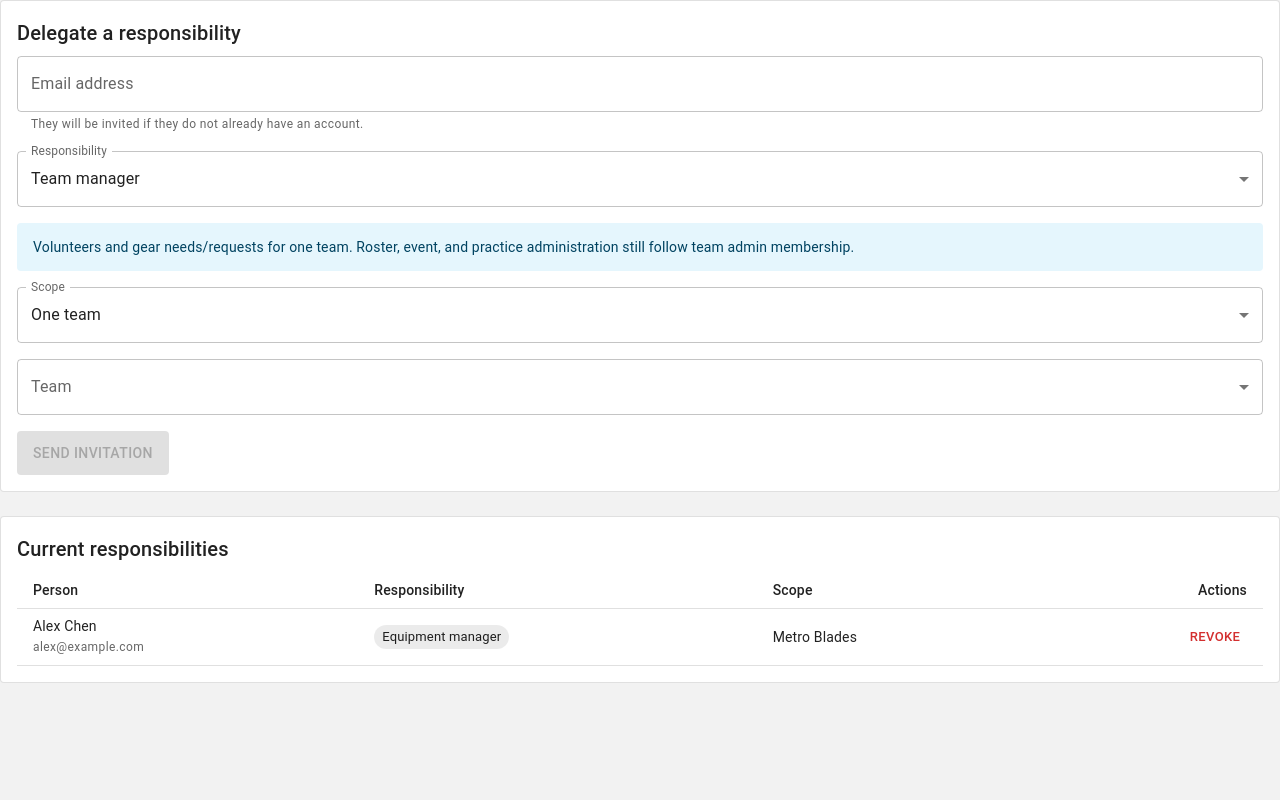
Test: RoleGrantManager › warns that equipment managers get gear only
Click the dropdown named "Responsibility".
click(85, 179)  # box left=31, top=169, right=140, bottom=188
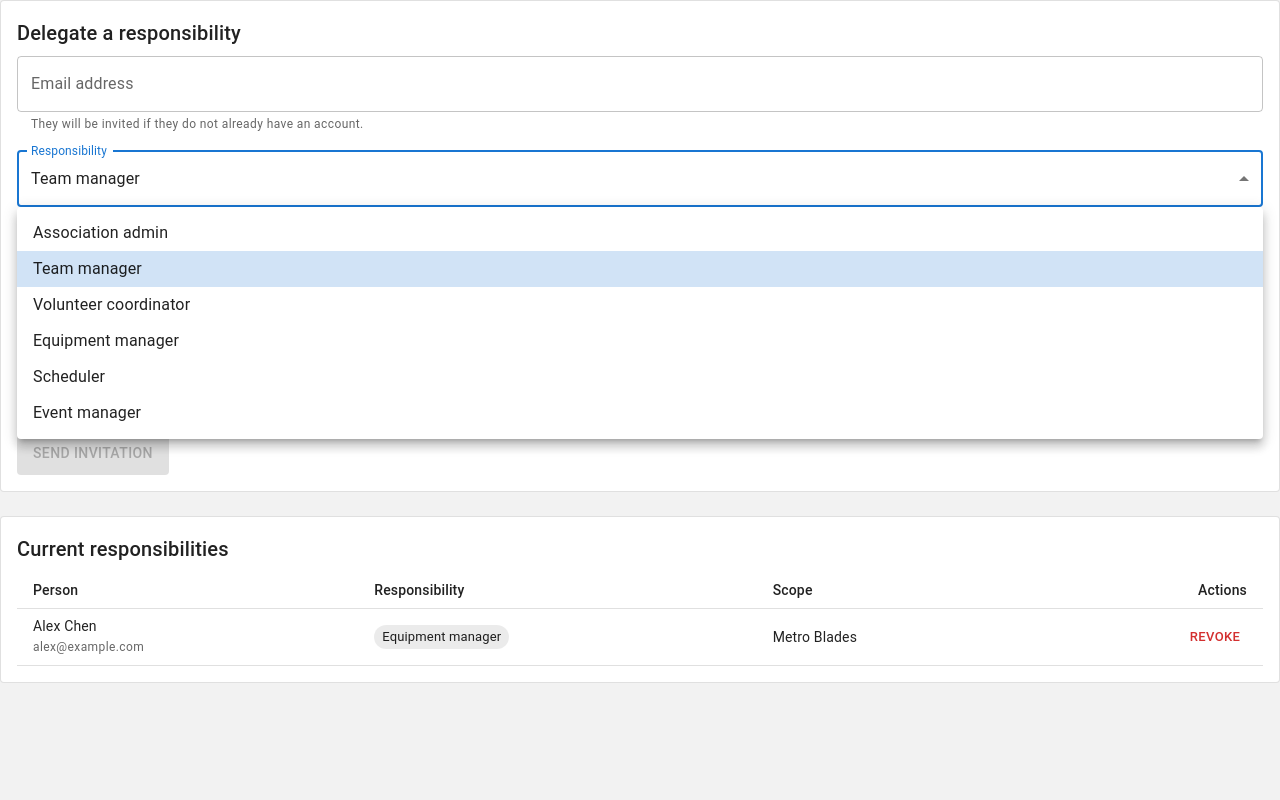
Click the option "Equipment manager".
click(106, 340)  # box left=33, top=331, right=179, bottom=350
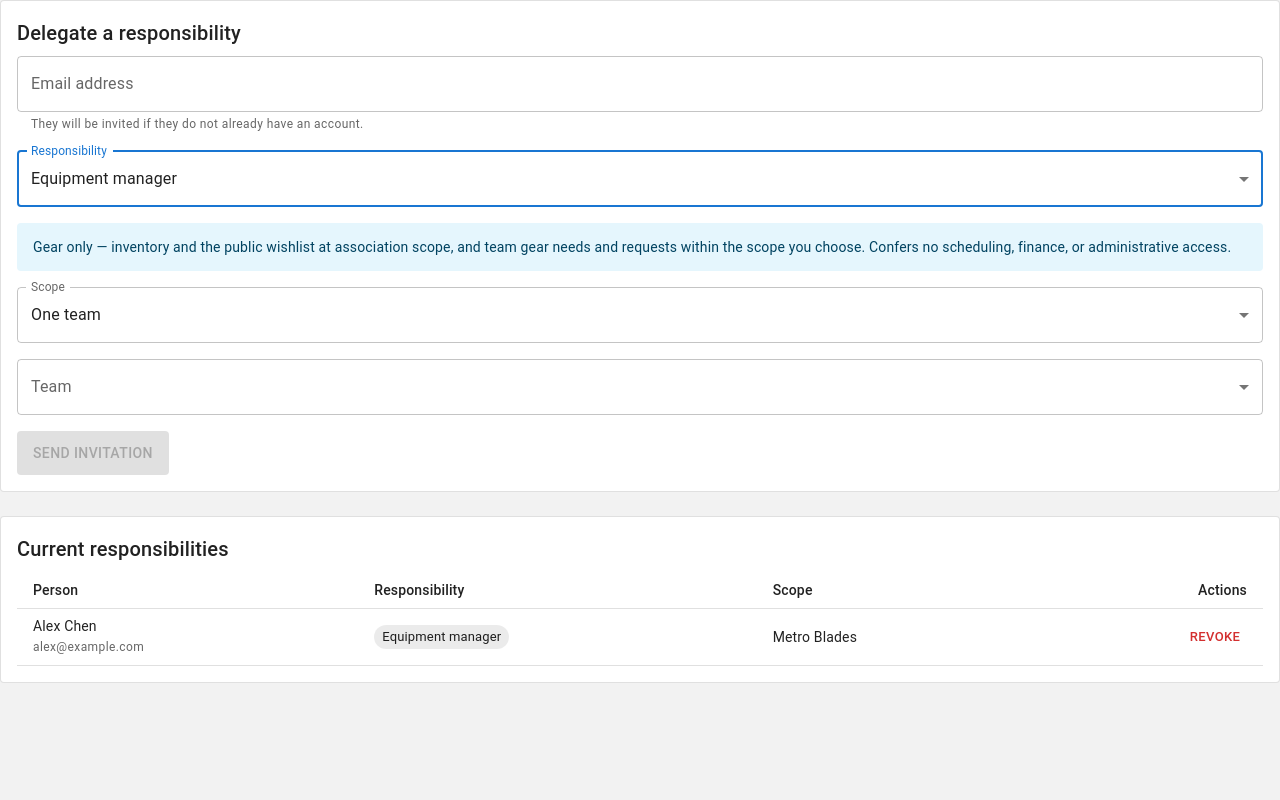
Now the text "Confers no scheduling, finance, or administrative access" is shown, box left=33, top=239, right=1231, bottom=255
